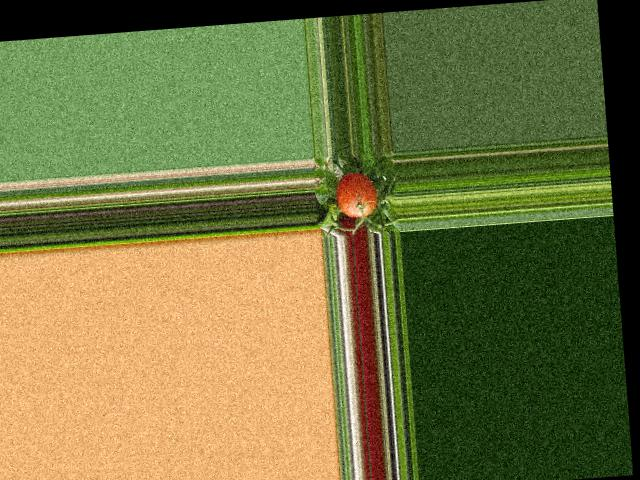tomato: (335, 172, 378, 219)
